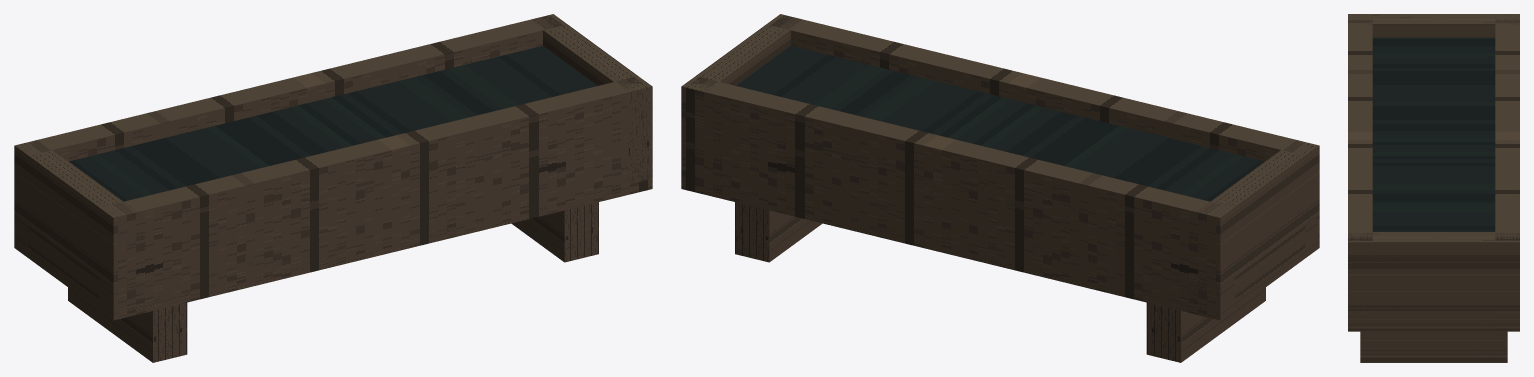
File: trough.glb
3 views of the same model, side by side, from view 1: azimuth 30°, elevation 25°; view 2: azimuth 150°, elevation 25°; view 3: azimuth 270°, elevation 25° (orthographic). The views are drawn at different scales.
Parts seen in each view (by area): view 1: trough; view 2: trough; view 3: trough.
Part boxes in pixels (left/top/right/bottom): trough: left=14, top=14, right=652, bottom=362; trough: left=681, top=14, right=1319, bottom=362; trough: left=1348, top=14, right=1519, bottom=362.
Bounding box in the file's own units: 2.2 × 0.63 × 0.7.
Materials: 1 (1 with a texture image).
